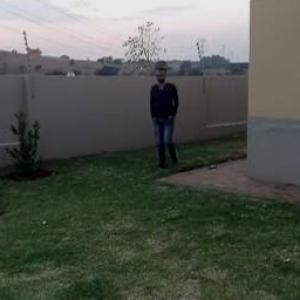follow: (149, 63, 186, 172)
